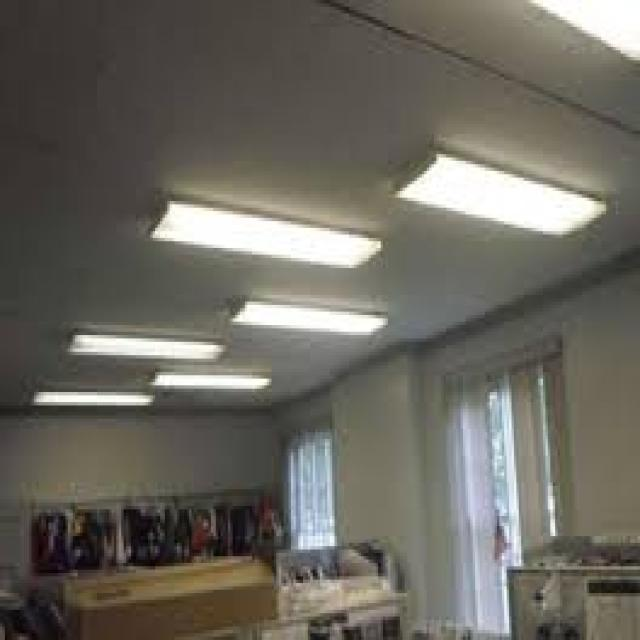tubelight_on: (386, 145, 617, 240), (145, 190, 386, 270), (225, 290, 394, 338), (527, 0, 640, 63), (57, 328, 241, 365), (152, 372, 282, 399), (28, 385, 161, 409)
